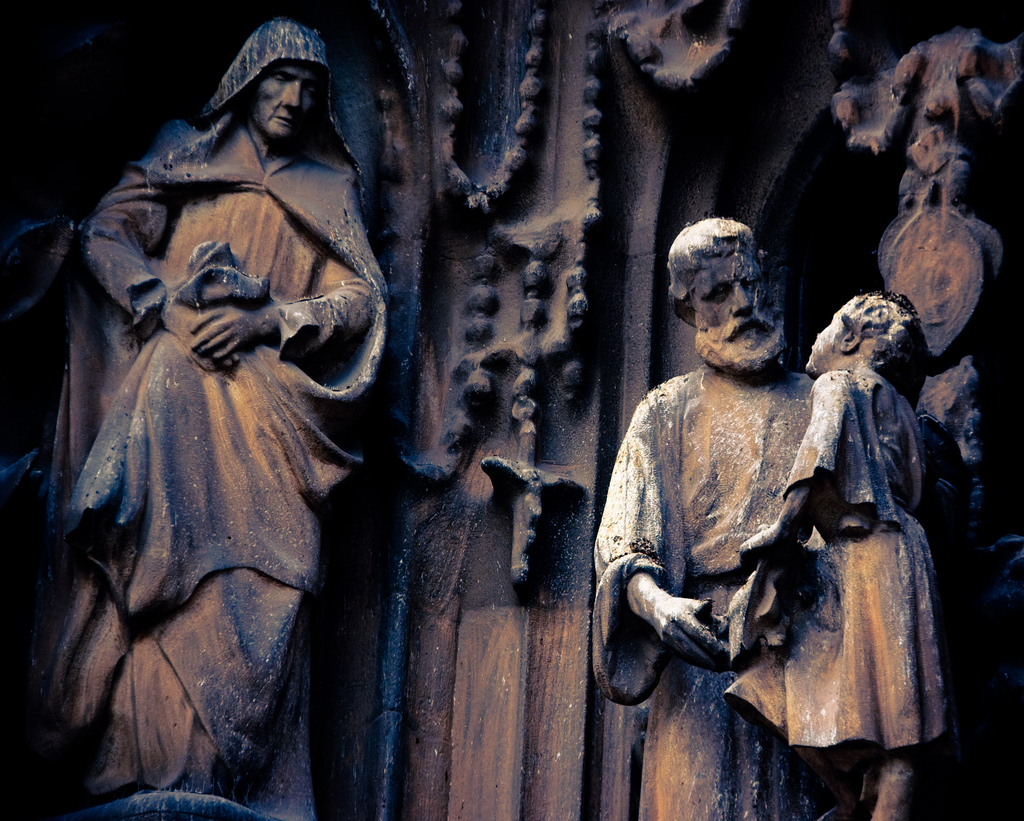Person: (20, 14, 391, 819), (593, 217, 847, 818), (723, 290, 960, 821)
